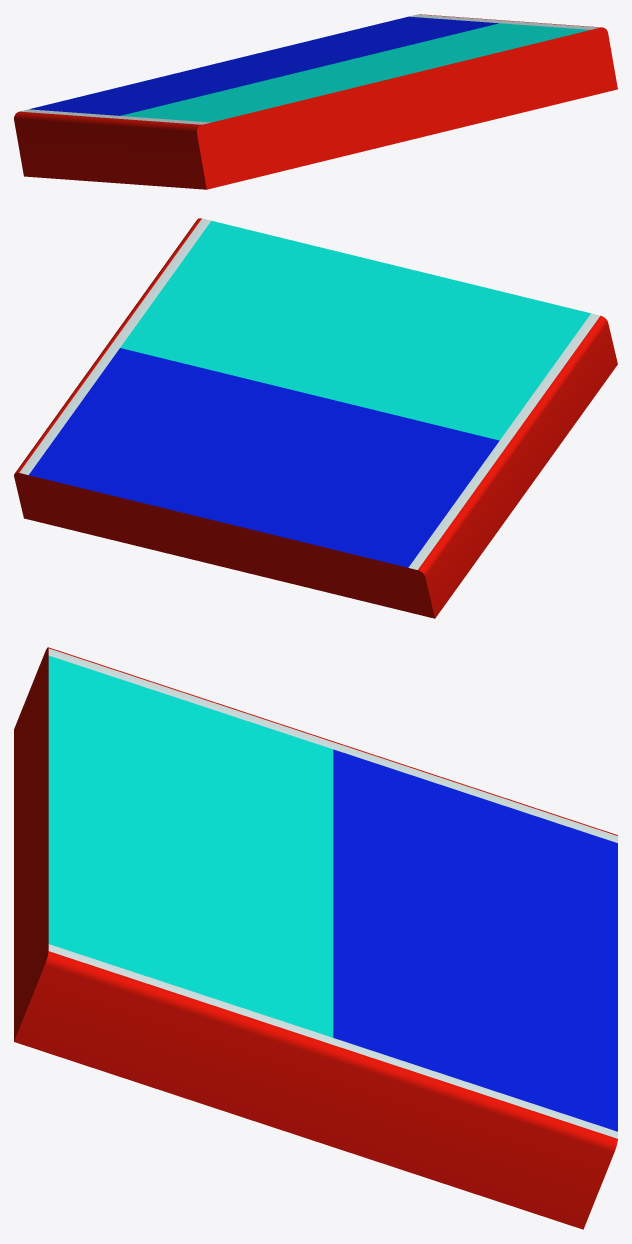
The model's file is Orta_Yol_Duz_Asagi.fbx.
The picture shows the model from 3 angles, top to bottom: view 1: azimuth 30°, elevation 25°; view 2: azimuth 150°, elevation 25°; view 3: azimuth 270°, elevation 25°; orthographic projection. The views are drawn at different scales.
Visible parts, largest first — view 1: Orta_Yol_Duz_Asagi; view 2: Orta_Yol_Duz_Asagi; view 3: Orta_Yol_Duz_Asagi.
Boxes of the visible parts, box(x1,y1,x2,y2) form: Orta_Yol_Duz_Asagi: box(14, 14, 617, 189); Orta_Yol_Duz_Asagi: box(14, 218, 617, 618); Orta_Yol_Duz_Asagi: box(14, 647, 617, 1229).
Bounding box in the file's own units: 1098 × 449 × 897.
